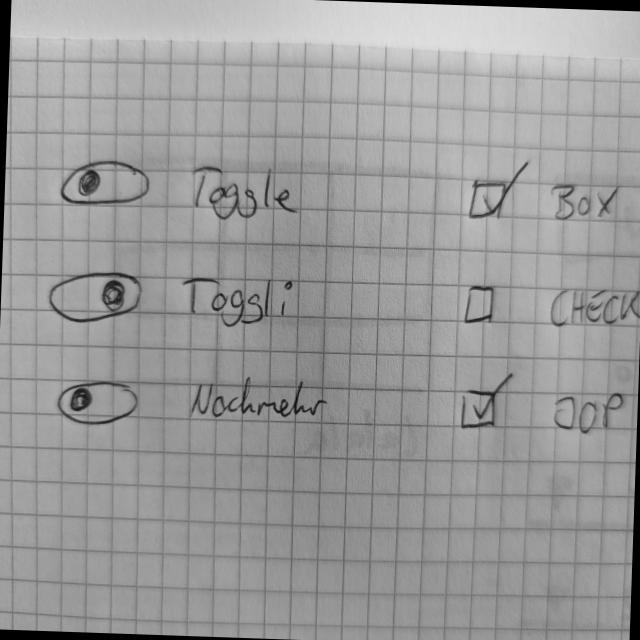checkbox: (458, 367, 630, 441), (469, 158, 625, 228), (458, 279, 640, 335)
label: (187, 369, 332, 429), (177, 272, 303, 334), (186, 160, 302, 227)
toggle: (45, 266, 146, 329), (58, 156, 154, 211), (55, 376, 144, 429)
